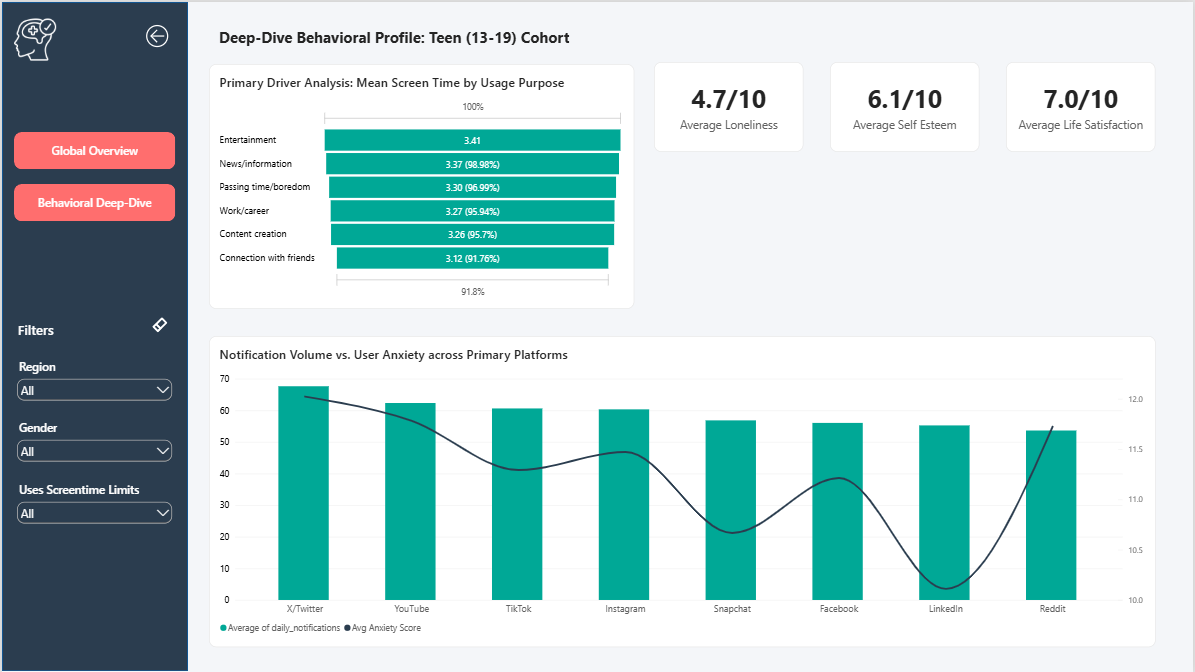

This screenshot's page, from the dashboard's own definition file:
{"tool":"powerbi","page":{"name":"Demographics","canvas":[1920,1080],"ordinal":3},"visuals":[{"type":"shape","box":[0,0,300,1079.3],"z":0},{"type":"actionButton","title":"Global Overview","box":[19,210.3,260.3,60],"z":1000},{"type":"actionButton","title":"Behavioral Deep-Dive","box":[19,293.1,260.3,60],"z":2000},{"type":"image","box":[19.6,23.2,67.9,76.8],"z":3000},{"type":"actionButton","box":[210.7,12.5,78.6,83.9],"z":4000},{"type":"funnel","title":"Primary Driver Analysis: Mean Screen Time by Usage Purpose","fields":{"Category":["smmh_screentime.primary_purpose"],"Y":["_Measures.Average Screen Time"]},"box":[333.9,100,685.7,394.6],"z":5000},{"type":"card","fields":{"Values":["_Measures.Display Loneliness"]},"box":[1051.8,96.4,241.1,144.6],"z":6000},{"type":"card","fields":{"Values":["_Measures.Display Self Esteem"]},"box":[1335.7,96.4,241.1,144.6],"z":7000},{"type":"card","fields":{"Values":["_Measures.Display Life Satisfaction"]},"box":[1619.6,96.4,241.1,144.6],"z":8000},{"type":"lineClusteredColumnComboChart","title":"Notification Volume vs. User Anxiety across Primary Platforms","fields":{"Category":["smmh_screentime.most_used_platform"],"Y":["Avg(smmh_screentime.daily_notifications)"],"Y2":["_Measures.Avg Anxiety Score"]},"box":[333.9,539.3,1526.8,501.8],"z":9000},{"type":"slicer","fields":{"Values":["smmh_screentime.region"]},"box":[19,575.9,260.3,110.3],"z":10000},{"type":"slicer","fields":{"Values":["smmh_screentime.gender"]},"box":[19,674.1,260.3,110.3],"z":11000},{"type":"slicer","fields":{"Values":["smmh_screentime.uses_screen_time_limits"]},"box":[19,774.1,260.3,110.3],"z":12000},{"type":"textbox","box":[19.6,514.3,210.7,85.7],"z":13000},{"type":"actionButton","box":[230.3,497,50,50],"z":14000},{"type":"cardVisual","fields":{"Data":["_Measures.Dynamic Drillthrough Title"]},"box":[333.9,14.3,867.9,82.1],"z":15000}]}

Visuals, with their boxes on the page's 1920x1080 design canvas (x1, y1, x2, y2). These are canvas units, not pixel positions in the 1195x672 screenshot, which may show the page scaled, cropped or inside an application window:
shape: (0,0,300,1079)
"Global Overview" actionButton: (19,210,279,270)
"Behavioral Deep-Dive" actionButton: (19,293,279,353)
image: (20,23,88,100)
actionButton: (211,12,289,96)
"Primary Driver Analysis: Mean Screen Time by Usage Purpose" funnel: (334,100,1020,495)
card - _Measures.Display Loneliness: (1052,96,1293,241)
card - _Measures.Display Self Esteem: (1336,96,1577,241)
card - _Measures.Display Life Satisfaction: (1620,96,1861,241)
"Notification Volume vs. User Anxiety across Primary Platforms" lineClusteredColumnComboChart: (334,539,1861,1041)
slicer - smmh_screentime.region: (19,576,279,686)
slicer - smmh_screentime.gender: (19,674,279,784)
slicer - smmh_screentime.uses_screen_time_limits: (19,774,279,884)
textbox: (20,514,230,600)
actionButton: (230,497,280,547)
cardVisual - _Measures.Dynamic Drillthrough Title: (334,14,1202,96)
